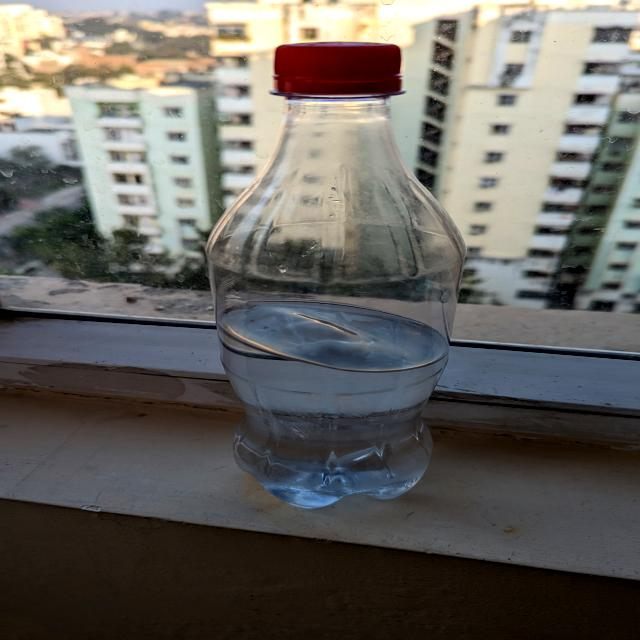half-bottle: (204, 40, 472, 515)
